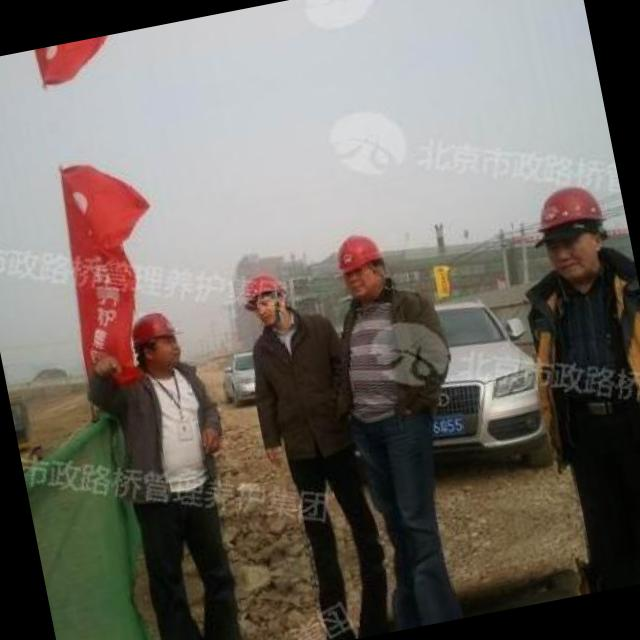helmet: (525, 175, 617, 289), (329, 227, 394, 306), (125, 304, 184, 375), (235, 264, 292, 332)
